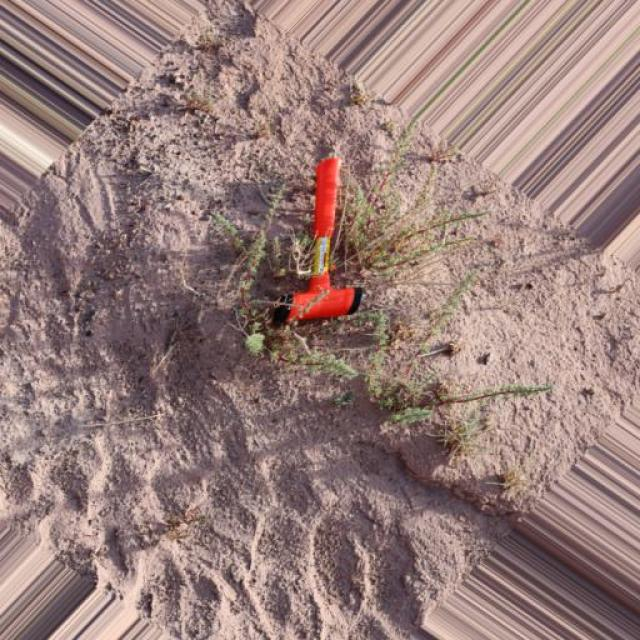mallet: (272, 154, 362, 328)
